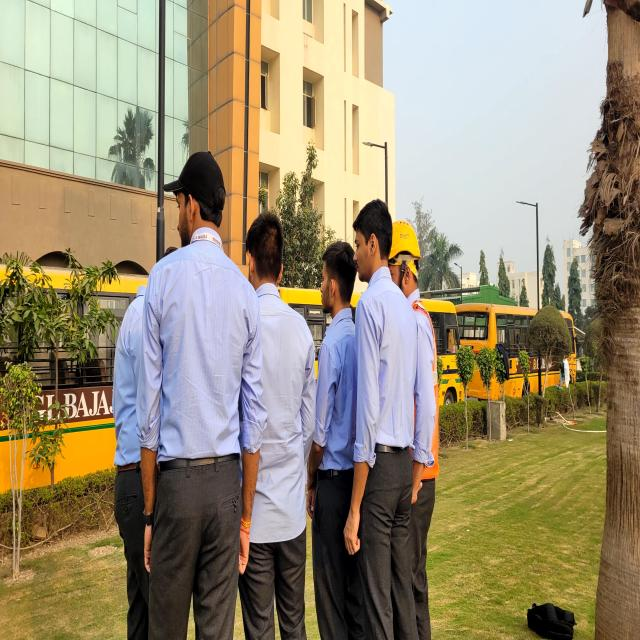unsafe: (144, 151, 262, 640), (241, 207, 314, 640), (350, 196, 420, 640), (314, 234, 360, 640)
